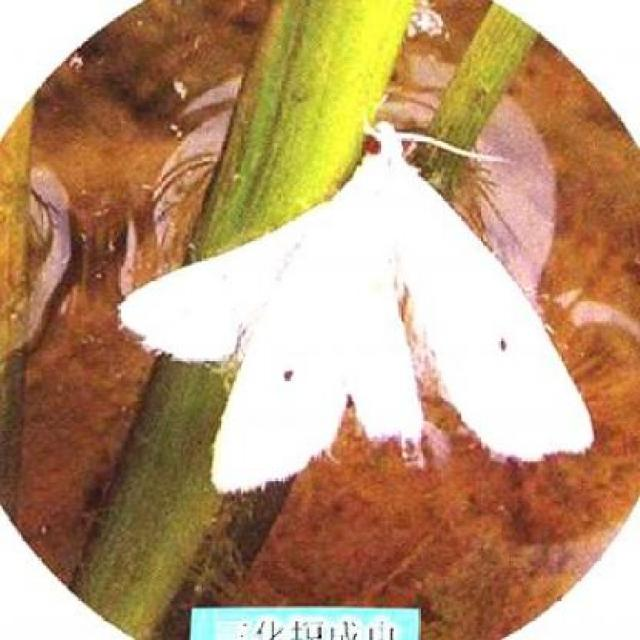stem-borer: (115, 115, 593, 499)
